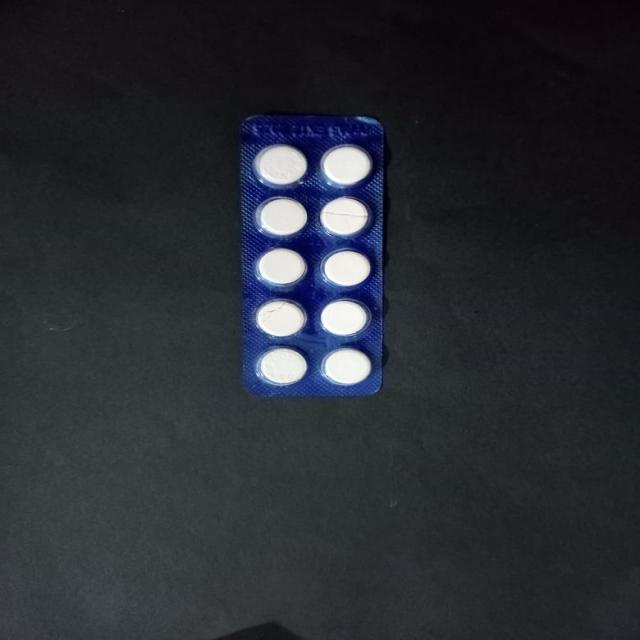defect: (317, 193, 377, 239), (252, 296, 310, 339)
